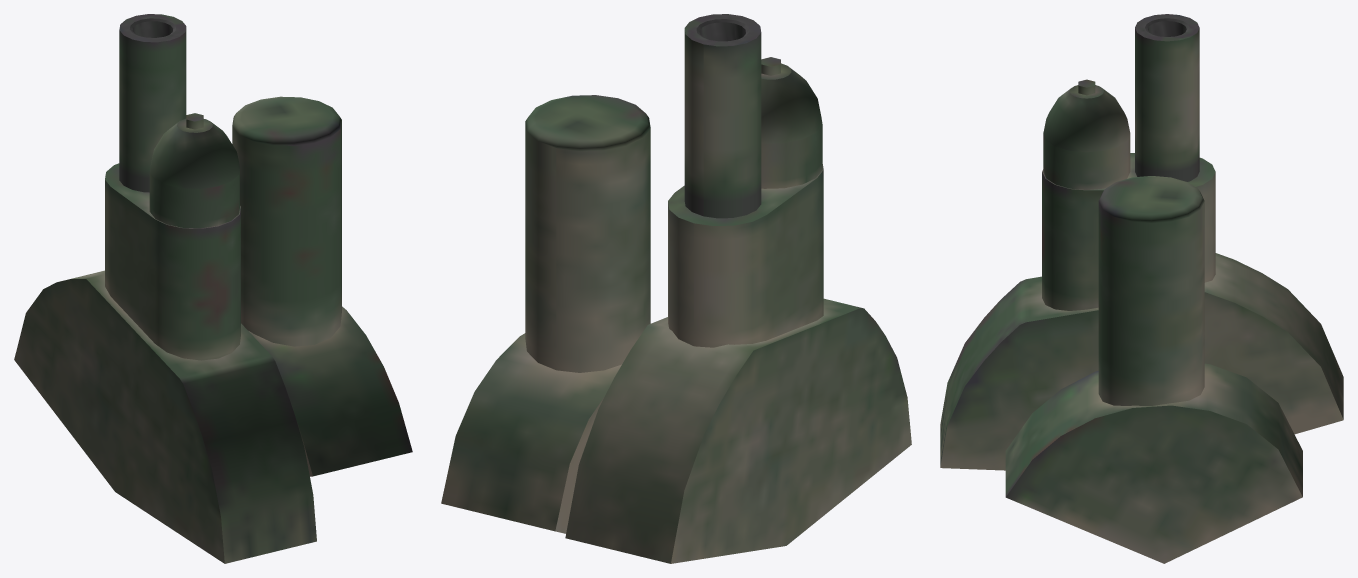
Rendered from Gun_01.glb.
3 renders of one model, left to right at view 1: azimuth 30°, elevation 25°; view 2: azimuth 150°, elevation 25°; view 3: azimuth 270°, elevation 25°, orthographic. The views are drawn at different scales.
Visible parts, largest first — view 1: set_0_group_0; view 2: set_0_group_0; view 3: set_0_group_0.
Part boxes in pixels (x1,y1,x2,y2): set_0_group_0: [14, 14, 412, 563]; set_0_group_0: [441, 14, 911, 563]; set_0_group_0: [940, 14, 1343, 563].
Bounding box in the file's own units: 0.2947 × 0.6012 × 0.4839.
Materials: 1 (1 with a texture image).
